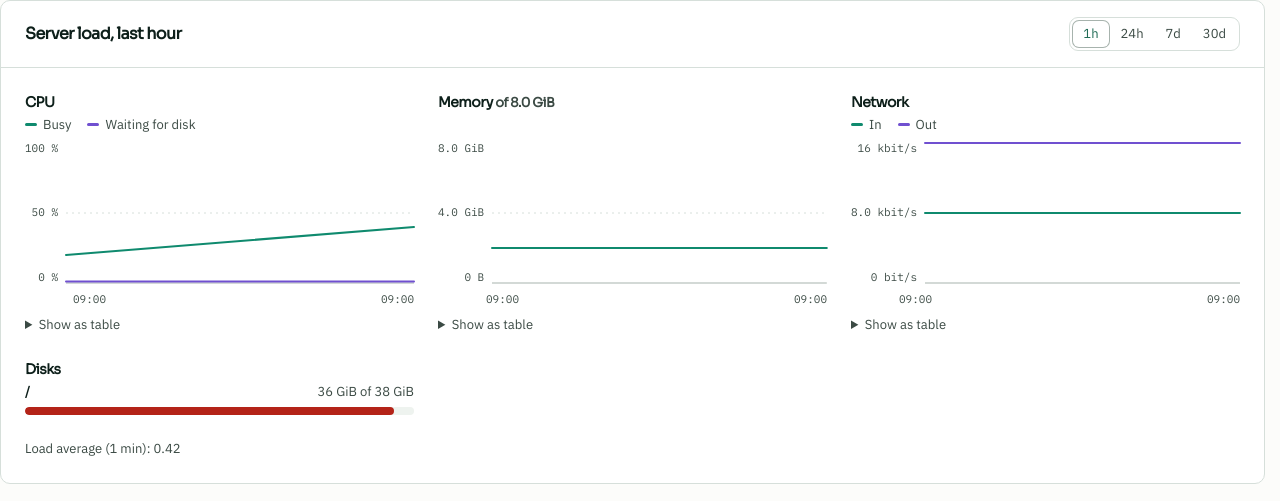
Test: ServerDashboard › draws the charts and switches the range
Expected: the element named "CPU use in percent" is shown, [25,115,414,334]
Expected: the text "Load average (1 min): 0.42" is shown, [25,440,180,457]
Click the button "7d": (1173, 34) [1156,21,1191,47]
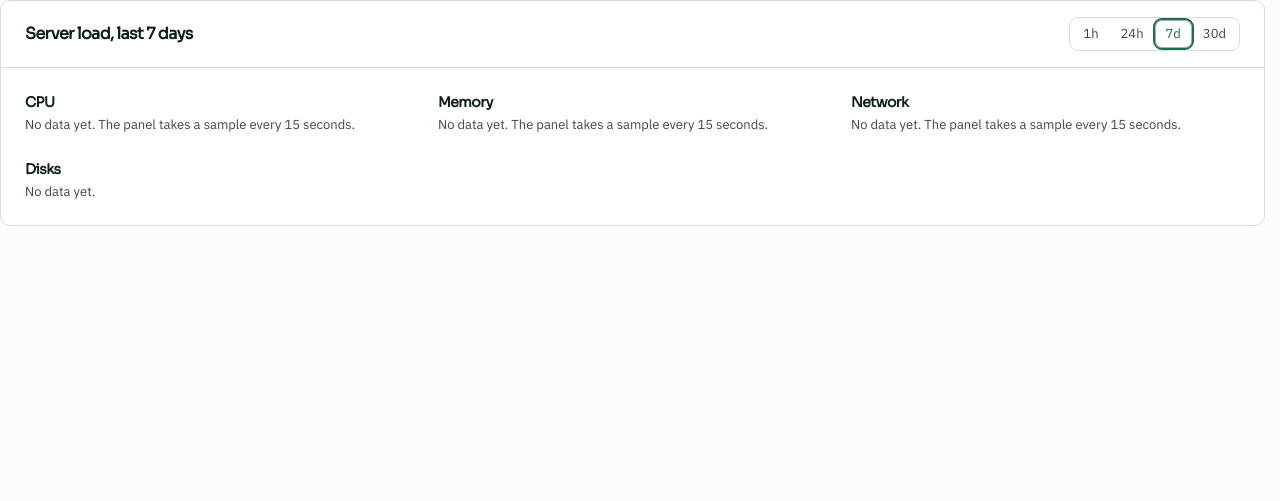
Expected: the heading "Server load, last 7 days" is shown, [25,22,193,46]
Expected: the text "No data yet. The panel takes a sample every 15 seconds." is shown 3 times, [25,116,355,133]; [438,116,768,133]; [851,116,1181,133]
